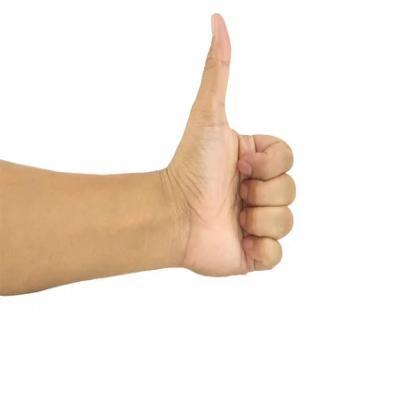thumb_up: (170, 8, 298, 280)
